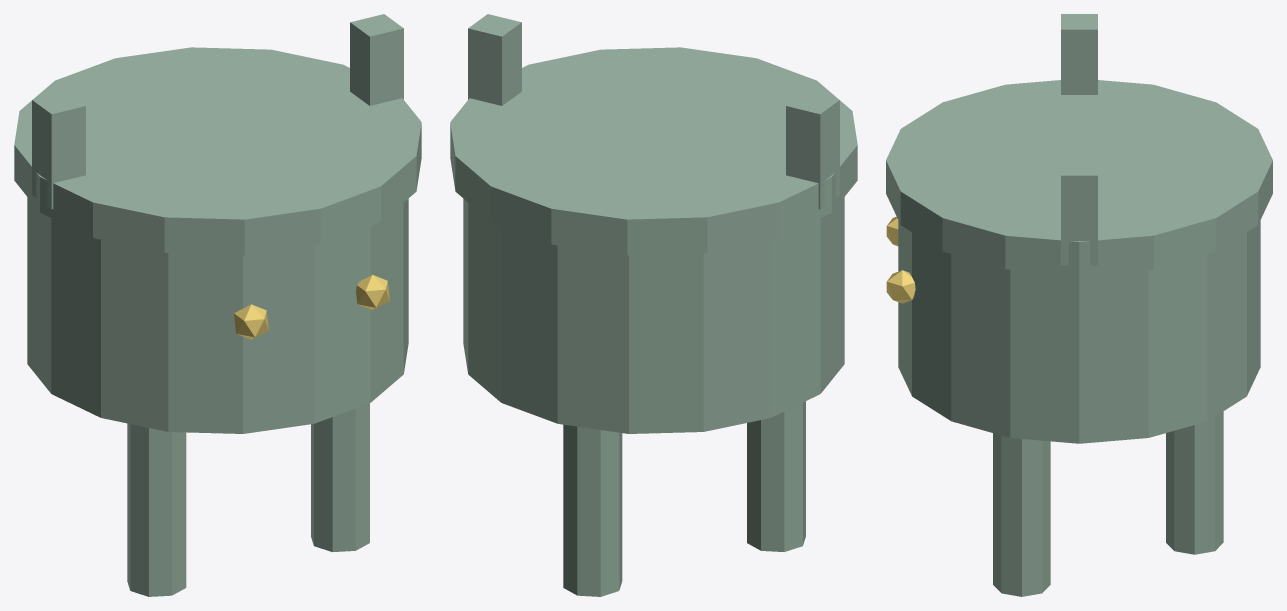
File: Ding.fbx
The picture shows the model from 3 angles, left to right: view 1: azimuth 30°, elevation 25°; view 2: azimuth 150°, elevation 25°; view 3: azimuth 270°, elevation 25°; orthographic projection. The views are drawn at different scales.
Parts seen in each view (by area): view 1: Ding; view 2: Ding; view 3: Ding.
Boxes of the visible parts, x1,y1,x2,y2 form: Ding: (14,14,421,596); Ding: (450,14,857,596); Ding: (886,14,1272,596).
Bounding box in the file's own units: 0.94 × 1.2 × 0.94.
